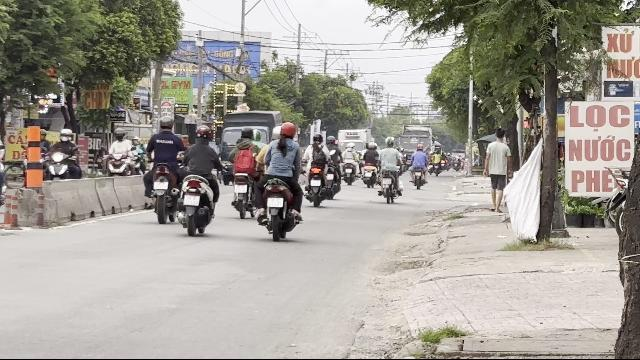helmet: (278, 121, 296, 139), (195, 124, 211, 142), (272, 123, 282, 139)
licenseplate: (183, 195, 200, 206), (267, 198, 283, 206)
motorcyclist: (256, 121, 304, 240), (179, 124, 221, 234)
